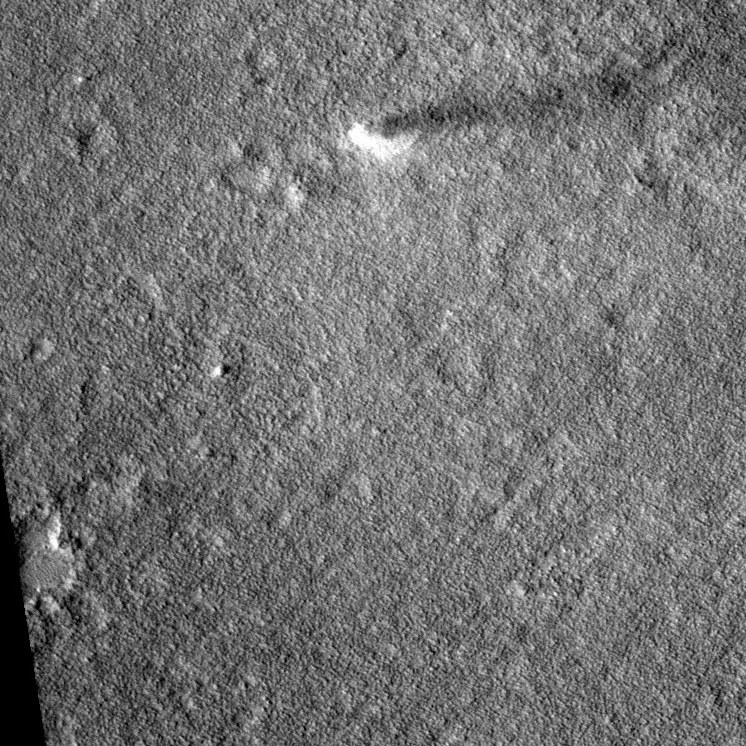dust_devil: (342, 70, 631, 166)
